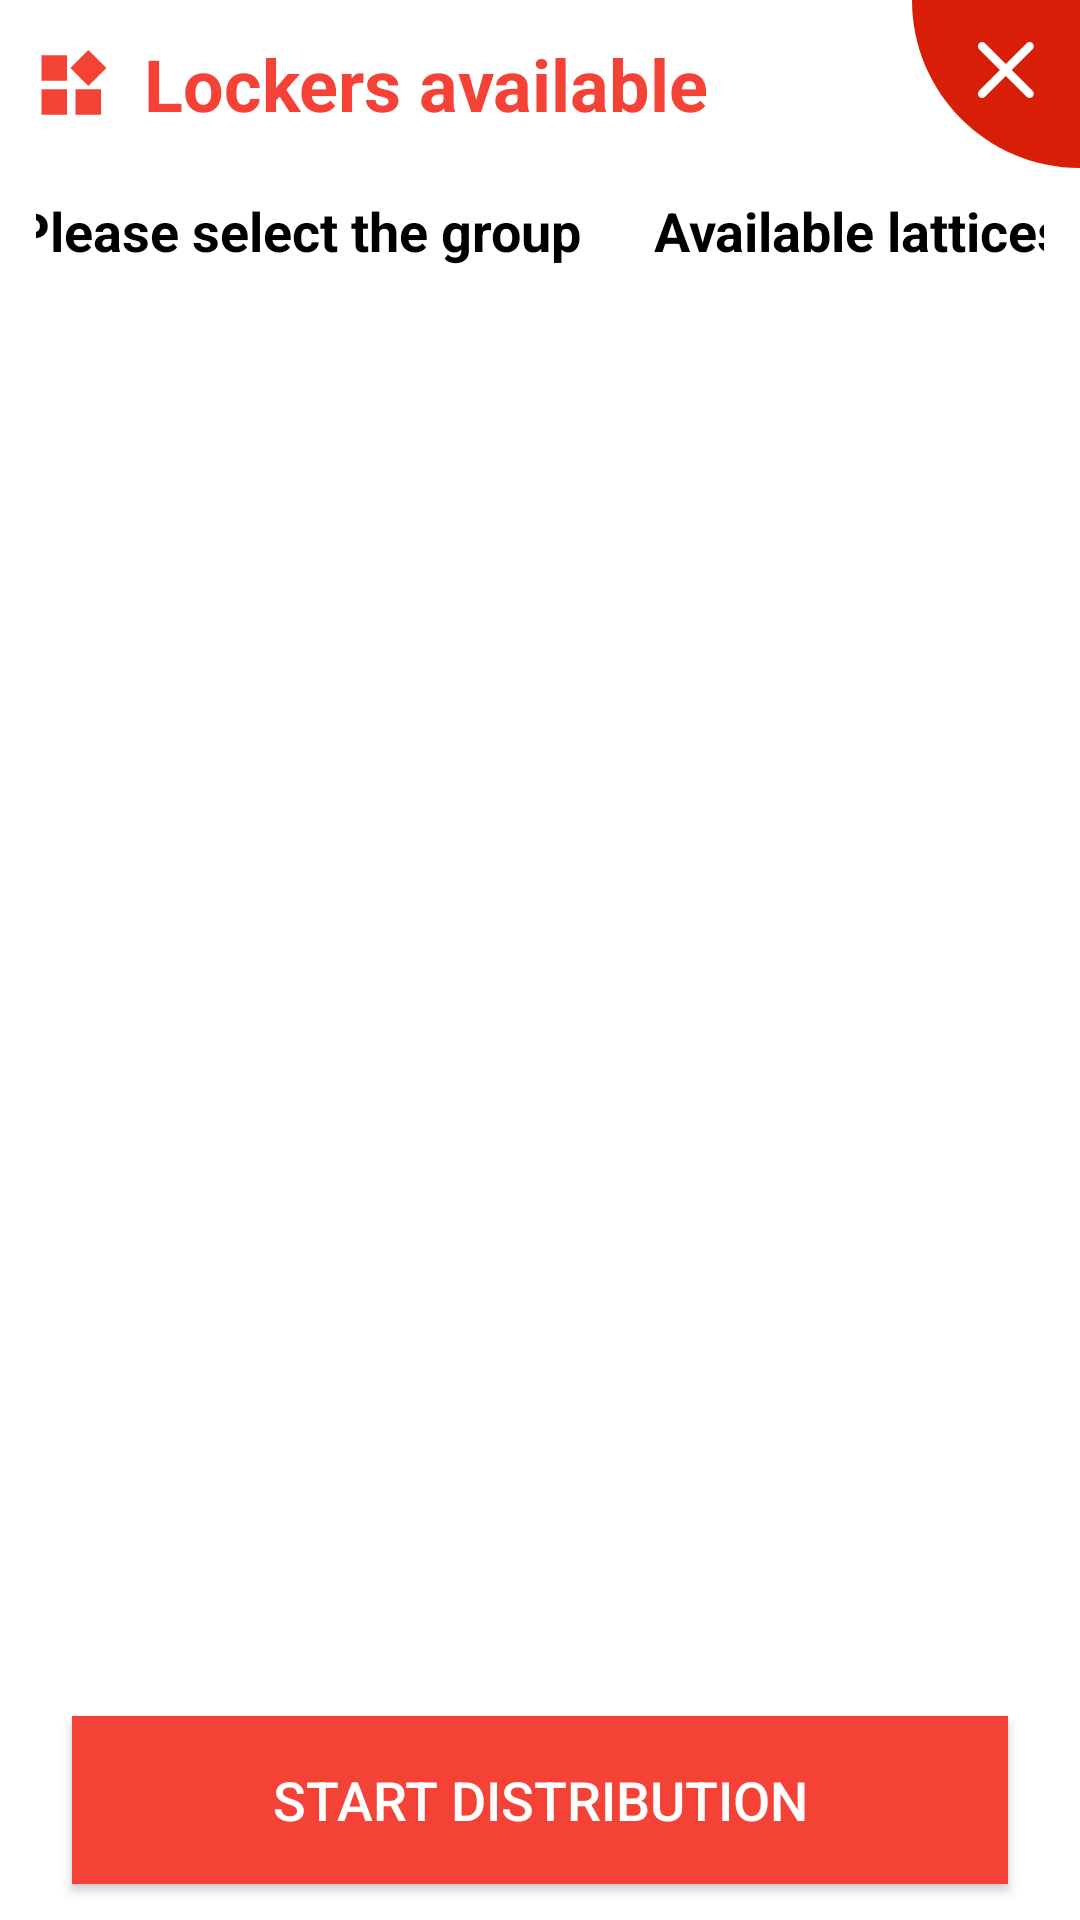

Locate icon controls on the screen. Image size 1080 × 1920, boxes as (x1, y1, x2, y2).
close: (912, 0, 1080, 168)
